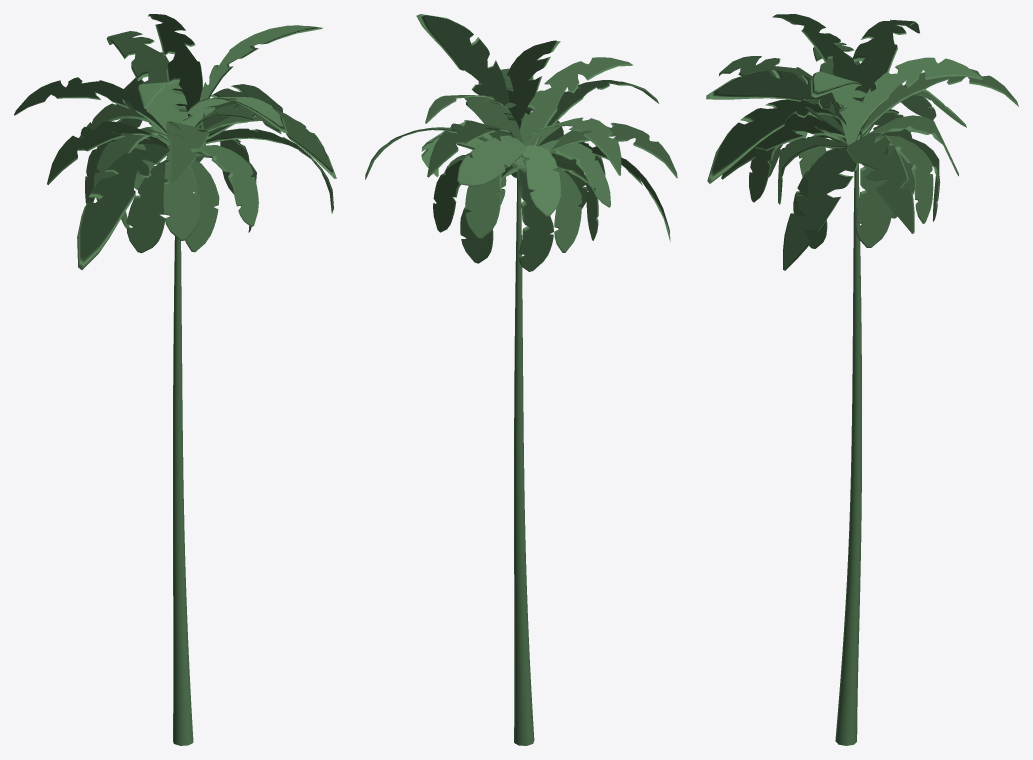
File: palmtree_tall_uv_3_5_ex[port.fbx
3 views of the same model, side by side, from view 1: azimuth 30°, elevation 25°; view 2: azimuth 150°, elevation 25°; view 3: azimuth 270°, elevation 25° (orthographic). The views are drawn at different scales.
Parts seen in each view (by area): view 1: palmtree_tall_uv_3_5_export; view 2: palmtree_tall_uv_3_5_export; view 3: palmtree_tall_uv_3_5_export.
Boxes of the visible parts, x1,y1,x2,y2 form: palmtree_tall_uv_3_5_export: (14, 14, 336, 745); palmtree_tall_uv_3_5_export: (365, 14, 677, 745); palmtree_tall_uv_3_5_export: (706, 14, 1018, 745).
Size of the model in its own units: 12.91 by 31.41 by 12.56.
